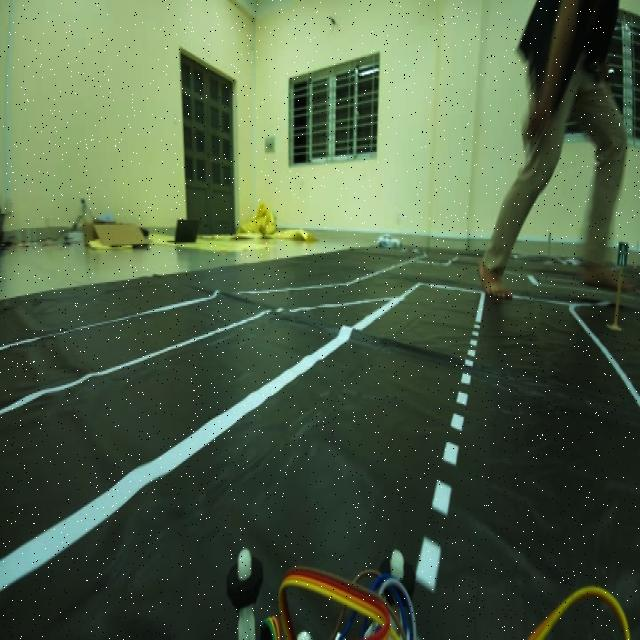highway_entry: (614, 233, 630, 279)
